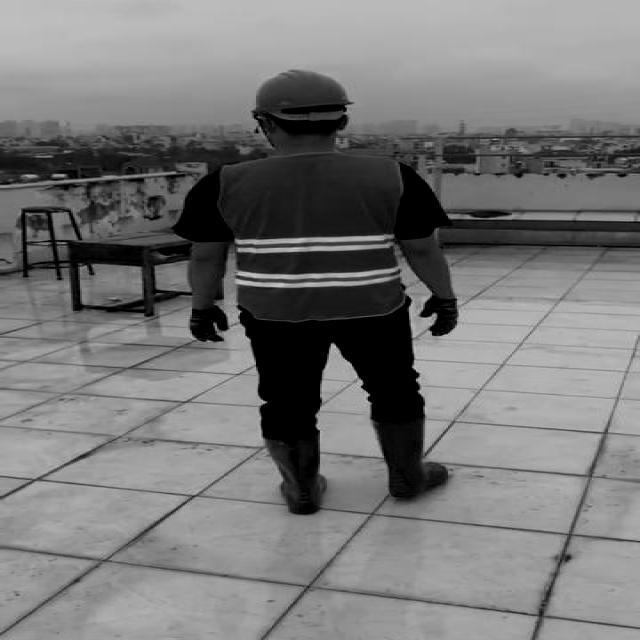boots: (373, 413, 448, 500), (266, 434, 324, 516)
hand_glove: (188, 305, 230, 343), (418, 297, 458, 336)
head_helmet: (247, 67, 357, 116)
person: (168, 62, 474, 520)
vest: (222, 151, 409, 323)
